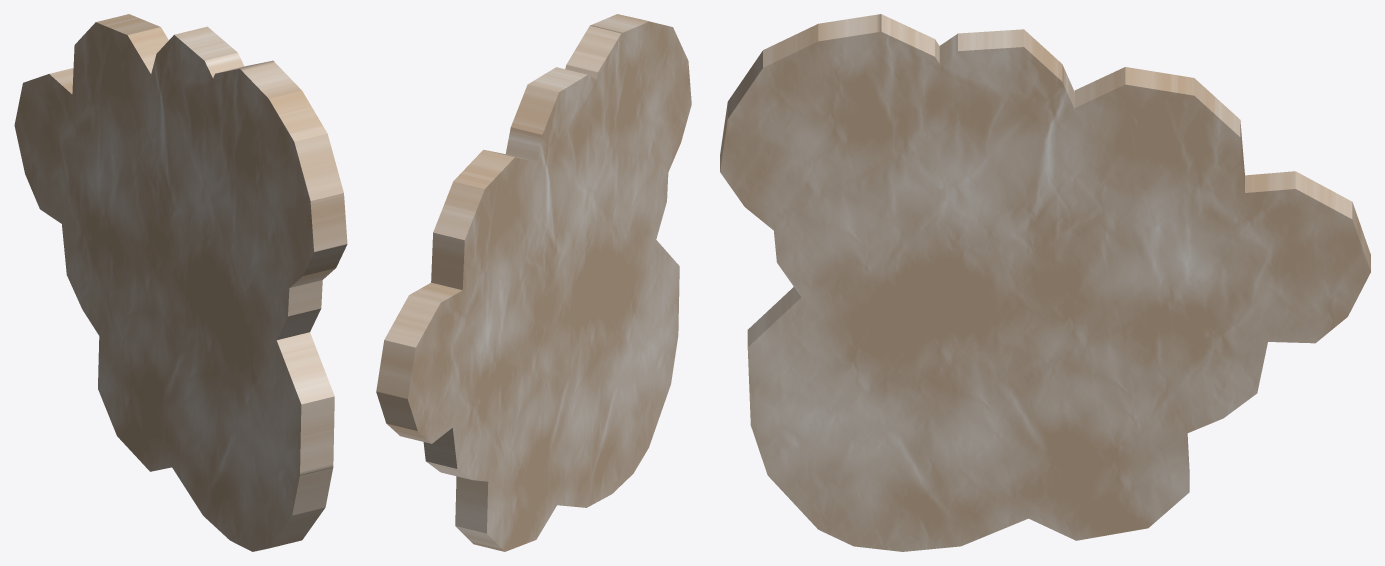
File: FUMEE1.fbx
The picture shows the model from 3 angles, left to right: view 1: azimuth 30°, elevation 25°; view 2: azimuth 150°, elevation 25°; view 3: azimuth 270°, elevation 25°; orthographic projection. The views are drawn at different scales.
Parts seen in each view (by area): view 1: Vert; view 2: Vert; view 3: Vert.
Boxes of the visible parts, box(x1,y1,x2,y2) form: Vert: box(14, 14, 347, 551); Vert: box(376, 14, 691, 551); Vert: box(720, 14, 1370, 551).
Bounding box in the file's own units: 5 × 68.5 × 77.66.
Materials: 1 (1 with a texture image).
